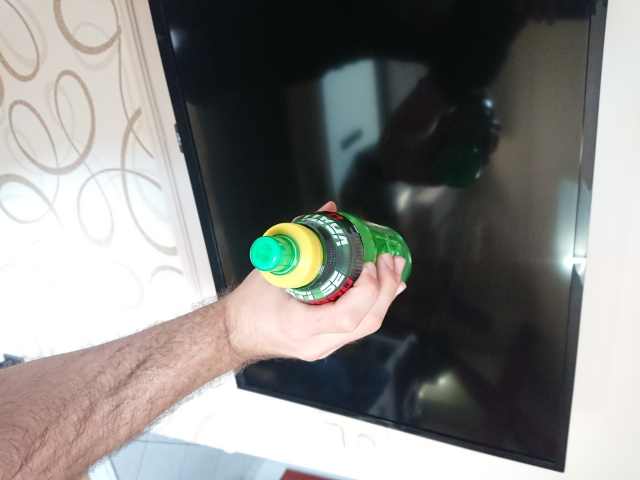Vindi Iso Sport Lemon-Grapefruit 500mL: (247, 209, 415, 309)
